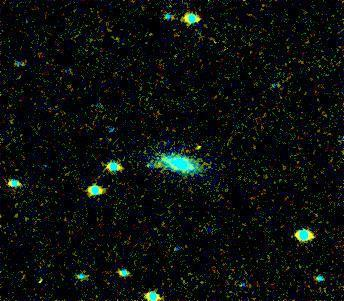star: (186, 135, 216, 165)
